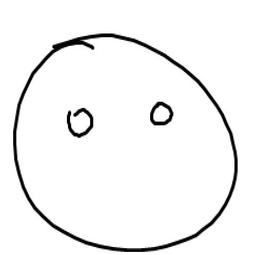empty_eye: (58, 106, 101, 139), (143, 97, 177, 128)
